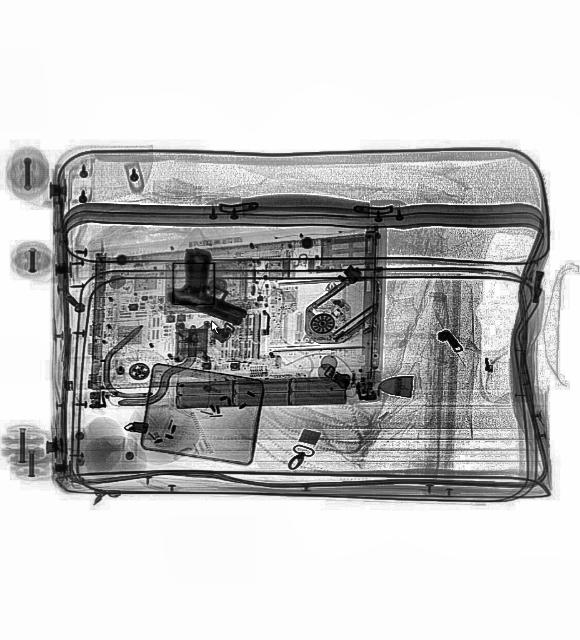Gun: (164, 244, 260, 330)
